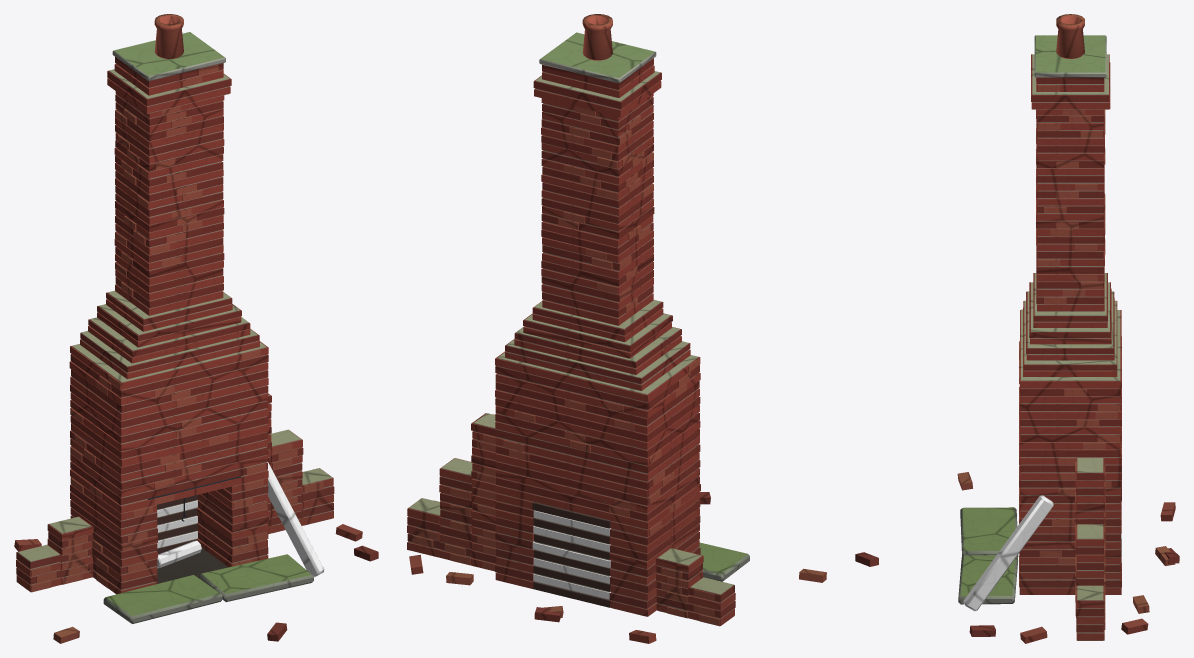
File: chimney_stack_free.glb
3 views of the same model, side by side, from view 1: azimuth 30°, elevation 25°; view 2: azimuth 150°, elevation 25°; view 3: azimuth 270°, elevation 25° (orthographic). The views are drawn at different scales.
Parts seen in each view (by area): view 1: chimney_stack_free; view 2: chimney_stack_free; view 3: chimney_stack_free.
Boxes of the visible parts, left/top/right/bottom form: chimney_stack_free: left=14, top=14, right=378, bottom=643; chimney_stack_free: left=407, top=14, right=826, bottom=643; chimney_stack_free: left=855, top=14, right=1179, bottom=643.
Bounding box in the file's own units: 3.44 × 5.31 × 2.88.
Materials: 11 (11 with a texture image).
